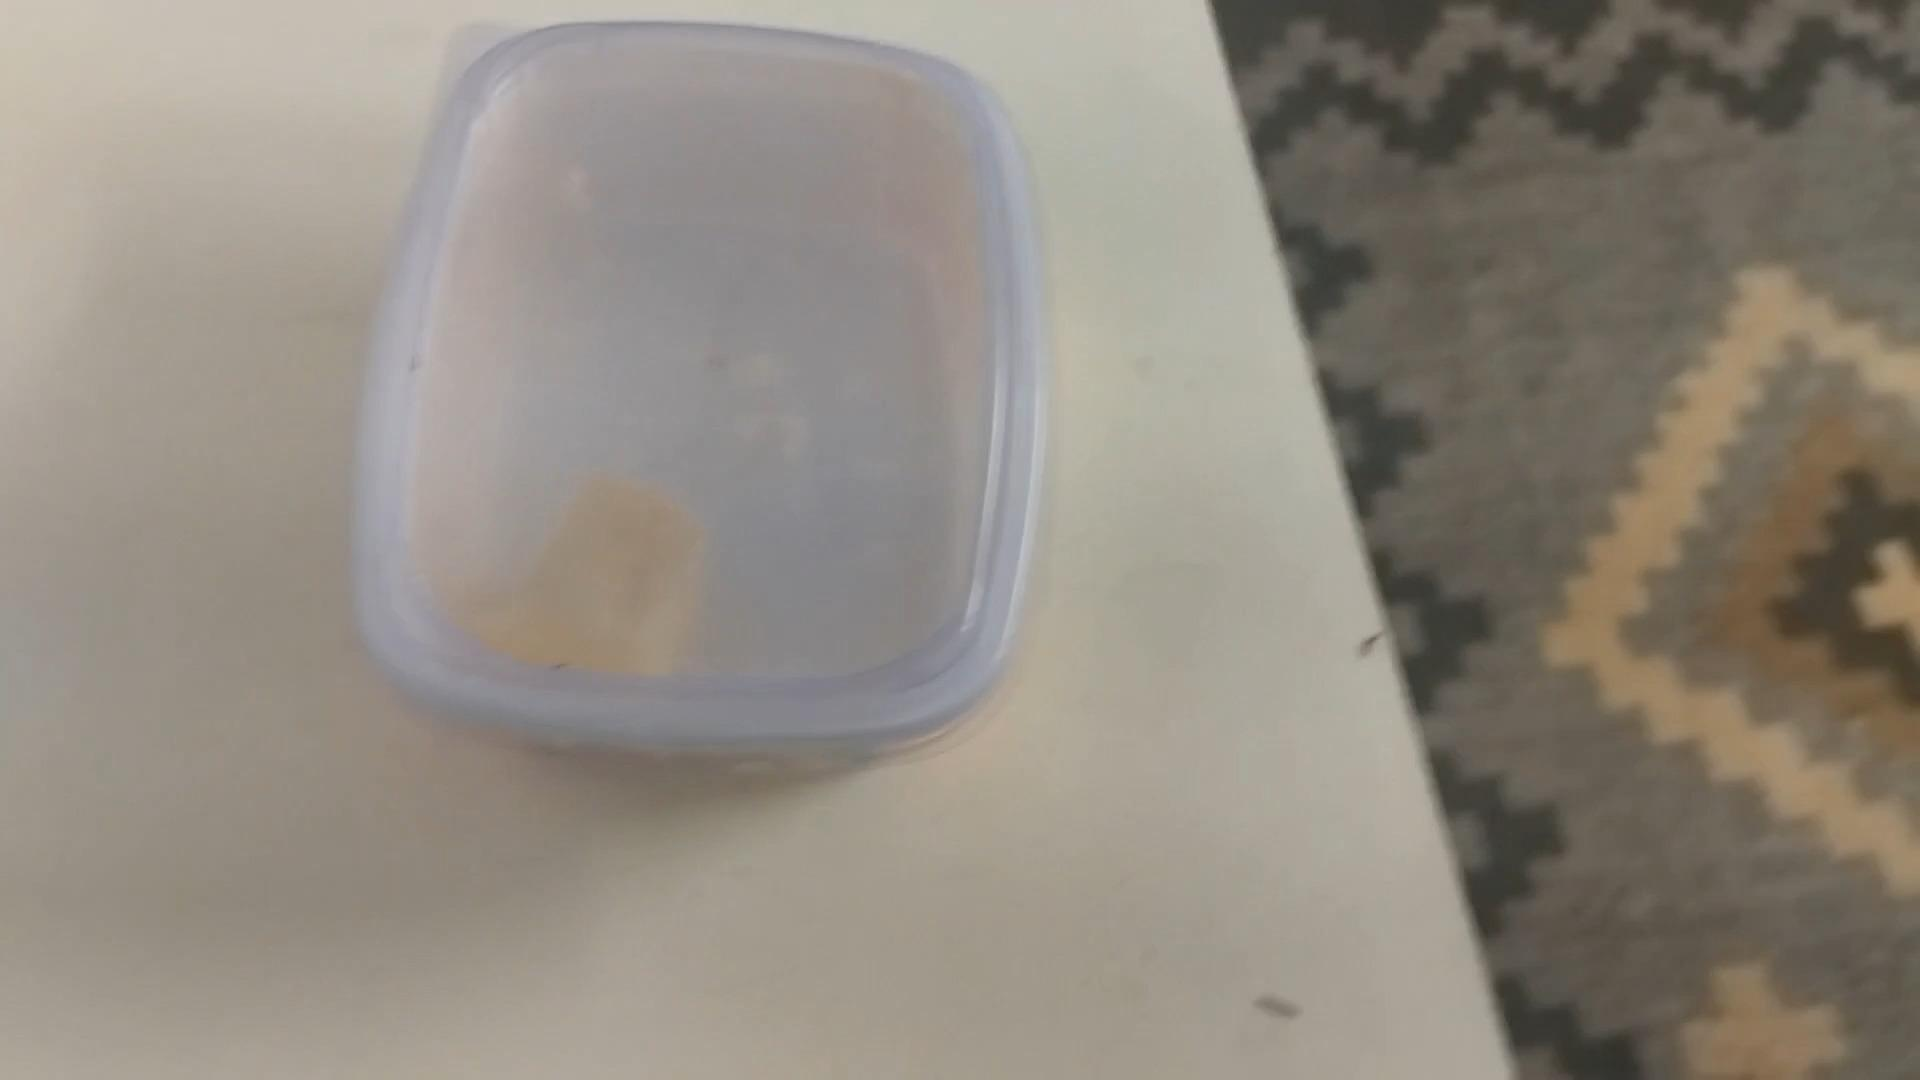butter: (356, 26, 1033, 767)
